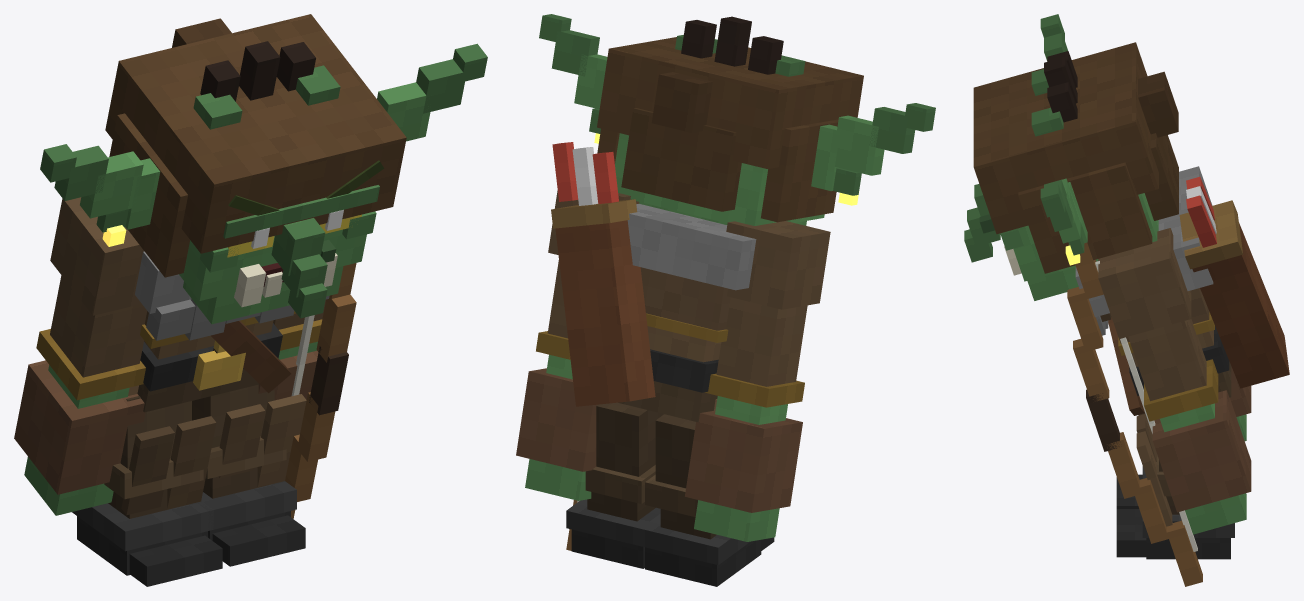
Rendered from goblin_chasseur_v2.glb.
The picture shows the model from 3 angles, left to right: view 1: azimuth 30°, elevation 25°; view 2: azimuth 150°, elevation 25°; view 3: azimuth 270°, elevation 25°; orthographic projection. The views are drawn at different scales.
Parts seen in each view (by area): view 1: Head, ArmR, Torso, LegR, LegL, HandL, ArmL; view 2: Head, Torso, ArmR, ArmL, LegL, LegR; view 3: Head, ArmL, Torso, HandL, LegL, ArmR.
Part boxes in pixels (x1,y1,x2,y2): Head: (40, 14, 487, 324); ArmR: (14, 197, 146, 515); Torso: (121, 251, 329, 515); LegR: (72, 396, 222, 586); LegL: (192, 384, 305, 566); HandL: (285, 263, 356, 518); ArmL: (258, 300, 325, 400); Head: (539, 14, 935, 225); Torso: (551, 142, 756, 422); ArmR: (685, 221, 830, 541); ArmL: (516, 191, 639, 500); LegL: (566, 402, 663, 568); LegR: (640, 414, 774, 586); Head: (964, 14, 1178, 300); ArmL: (1098, 228, 1251, 534); Torso: (1075, 166, 1289, 526); HandL: (1067, 242, 1202, 586); LegL: (1116, 454, 1234, 559); ArmR: (1230, 366, 1251, 441).
Bounding box in the file's own units: 1.09 × 1.37 × 0.8377.
Materials: 48 (48 with a texture image).
